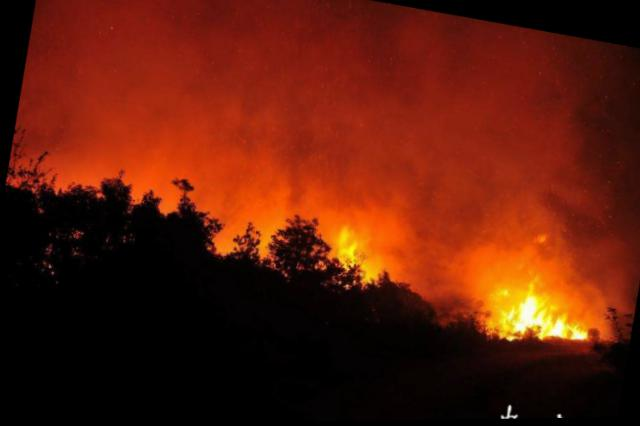fire: (483, 258, 601, 357), (323, 226, 381, 292)
